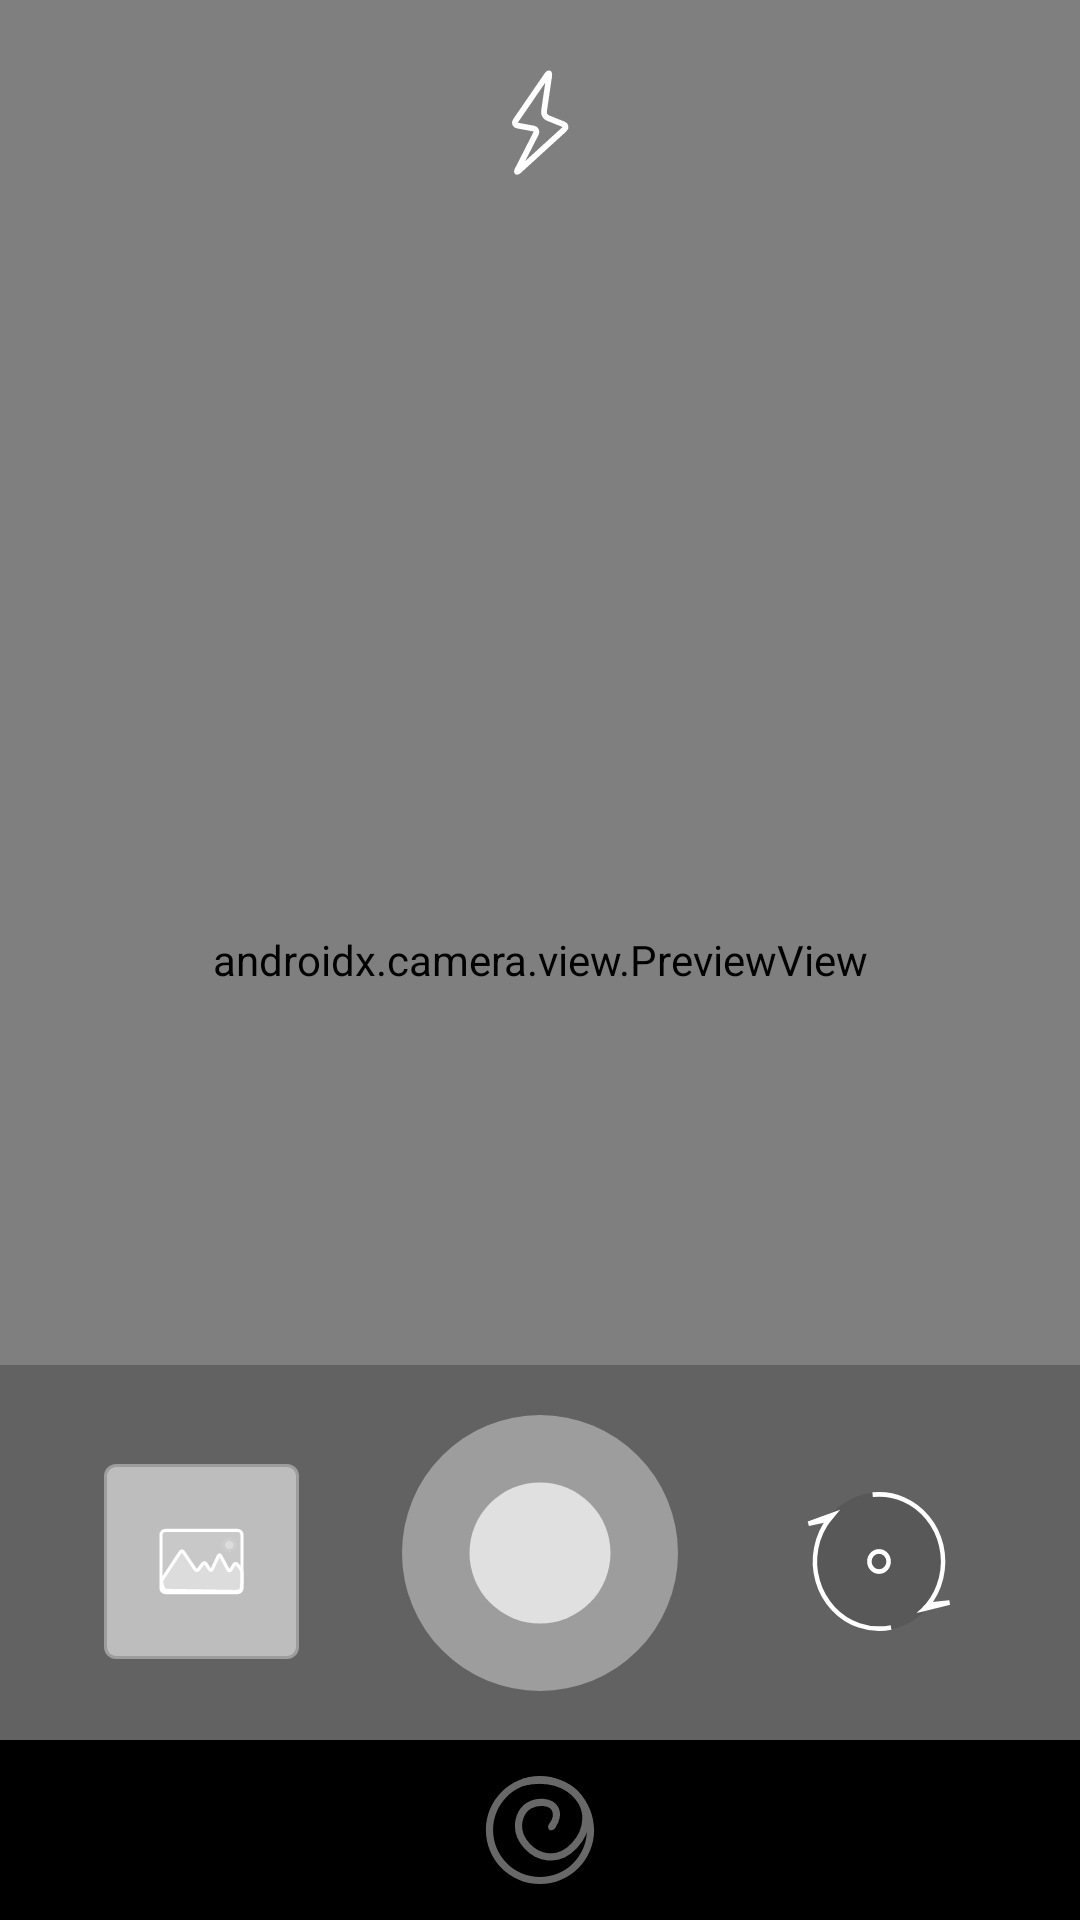

Where to tap for icons on this 1080w x 1920h app screen, as point (x, y):
flash off: point (540, 122)
flip: point (878, 1561)
